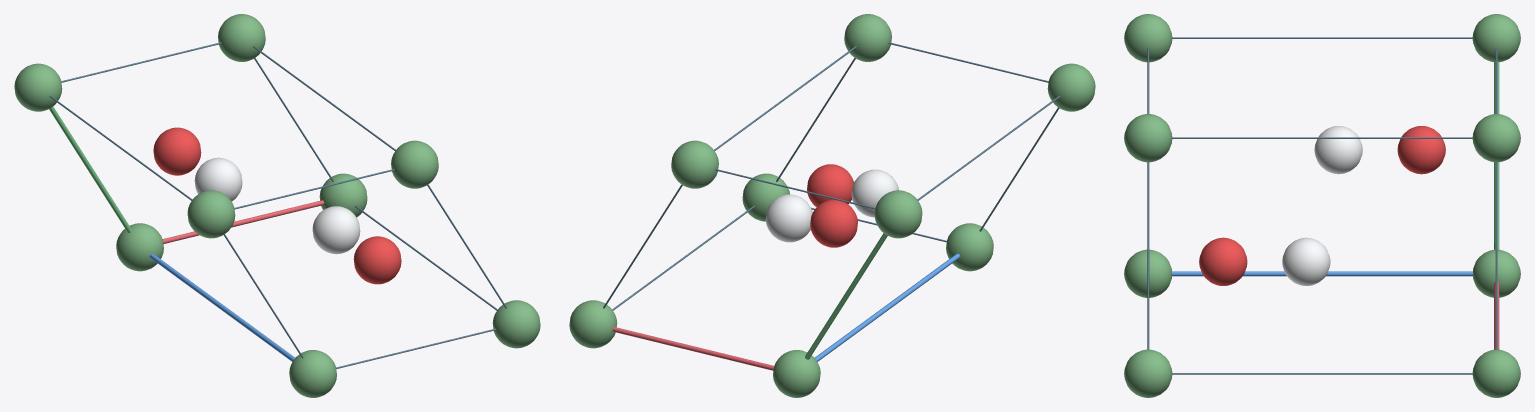
Rendered from cod-1548811.glb.
3 renders of one model, left to right at view 1: azimuth 30°, elevation 25°; view 2: azimuth 150°, elevation 25°; view 3: azimuth 270°, elevation 25°, orthographic.
Parts seen in each view (by area): view 1: Ni1 · Ni · 1 (×8), Ô mạng và các trục a, b, c, O1 · O · 1 (×2), H1 · H · 1 (×2); view 2: Ni1 · Ni · 1 (×8), Ô mạng và các trục a, b, c, O1 · O · 1 (×2), H1 · H · 1 (×2); view 3: Ni1 · Ni · 1 (×8), Ô mạng và các trục a, b, c, O1 · O · 1 (×2), H1 · H · 1 (×2).
Part boxes in pixels (box(x1,y1,x2,y2)): Ni1 · Ni · 1 (×8): box(14, 14, 540, 397); Ô mạng và các trục a, b, c: box(49, 42, 506, 368); O1 · O · 1 (×2): box(153, 127, 401, 284); H1 · H · 1 (×2): box(194, 157, 360, 254); Ni1 · Ni · 1 (×8): box(569, 14, 1095, 397); Ô mạng và các trục a, b, c: box(603, 42, 1060, 370); O1 · O · 1 (×2): box(807, 164, 857, 247); H1 · H · 1 (×2): box(765, 169, 898, 242); Ni1 · Ni · 1 (×8): box(1124, 14, 1520, 397); Ô mạng và các trục a, b, c: box(1147, 37, 1499, 374); O1 · O · 1 (×2): box(1199, 126, 1445, 285); H1 · H · 1 (×2): box(1282, 126, 1362, 285).
Bounding box in the file's own units: 5.33 × 3.35 × 5.25.
